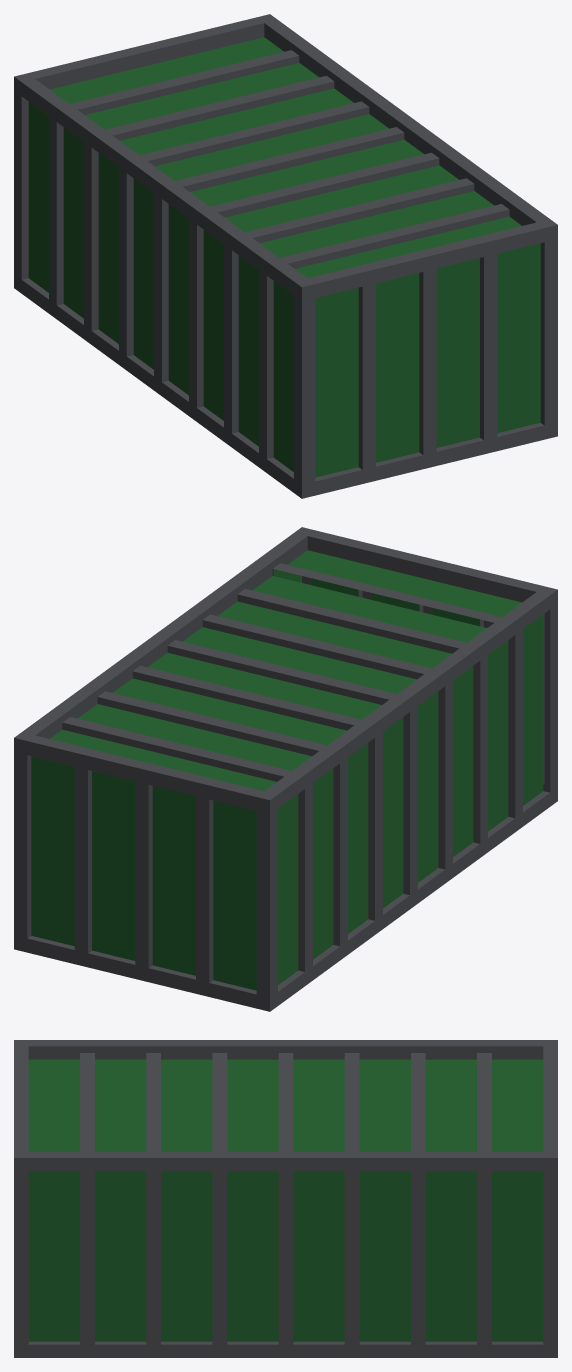
File: Conteneur.fbx
3 views of the same model, one above another, from view 1: azimuth 30°, elevation 25°; view 2: azimuth 150°, elevation 25°; view 3: azimuth 270°, elevation 25° (orthographic). The views are drawn at different scales.
Parts seen in each view (by area): view 1: Low_poly_conteneur; view 2: Low_poly_conteneur; view 3: Low_poly_conteneur.
Part boxes in pixels (box(x1,y1,x2,y2)): Low_poly_conteneur: box(14, 14, 557, 498); Low_poly_conteneur: box(14, 527, 557, 1011); Low_poly_conteneur: box(14, 1040, 557, 1357).
Size of the model in its own units: 380 by 300 by 740.
